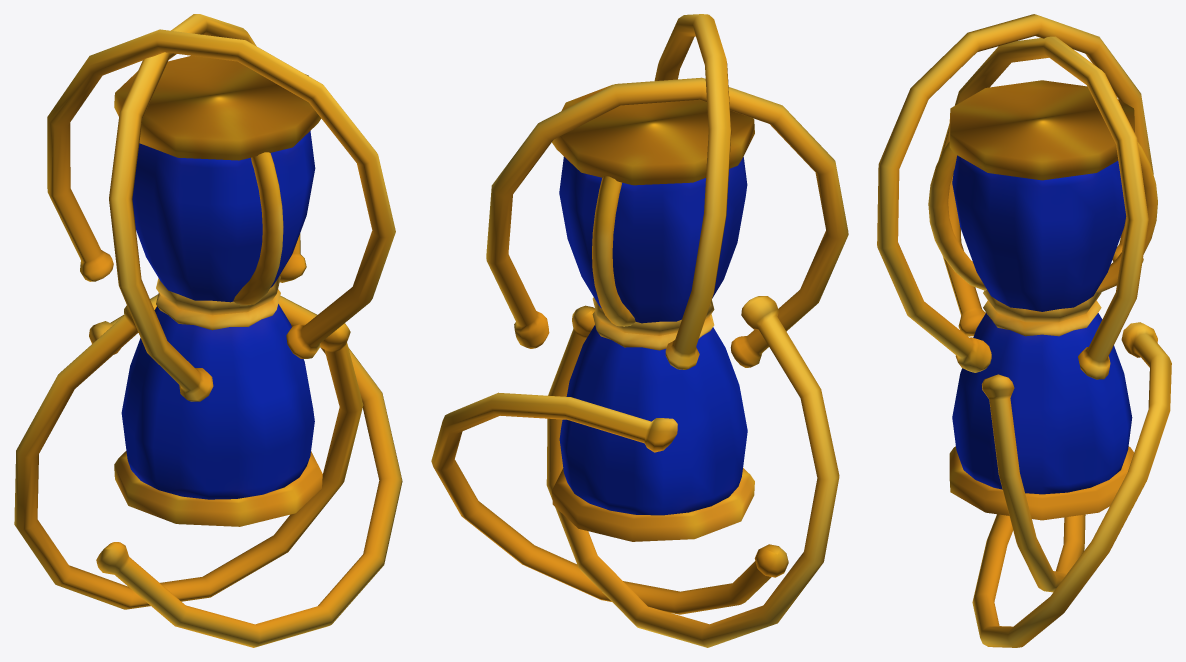
The model's file is sandclock_fixed.fbx.
The picture shows the model from 3 angles, left to right: view 1: azimuth 30°, elevation 25°; view 2: azimuth 150°, elevation 25°; view 3: azimuth 270°, elevation 25°; orthographic projection. The views are drawn at different scales.
Parts seen in each view (by area): view 1: sandclock_fixed; view 2: sandclock_fixed; view 3: sandclock_fixed.
Part boxes in pixels (box(x1,y1,x2,y2)): sandclock_fixed: box(14, 14, 402, 647); sandclock_fixed: box(431, 14, 848, 647); sandclock_fixed: box(877, 14, 1171, 647).
Bounding box in the file's own units: 149 × 225 × 105.
1 material, 1 textured.
